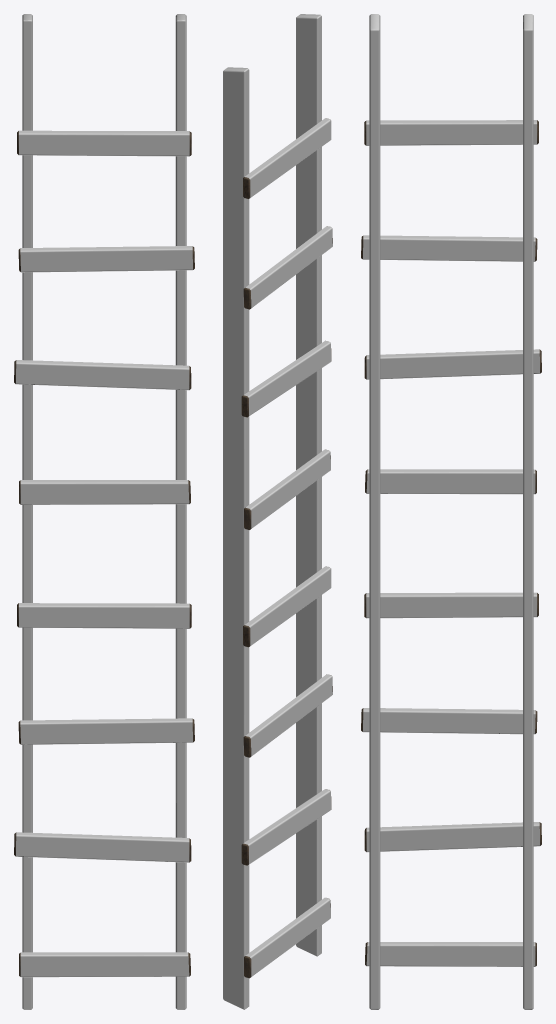
The model's file is SM_prop2_Ladder_3m.fbx.
3 renders of one model, left to right at view 1: azimuth 90°, elevation 25°; view 2: azimuth 150°, elevation 25°; view 3: azimuth 270°, elevation 25°, orthographic. The views are drawn at different scales.
Visible parts, largest first — view 1: SM_prop2_Ladder_3m_LOD0; view 2: SM_prop2_Ladder_3m_LOD0; view 3: SM_prop2_Ladder_3m_LOD0.
Part boxes in pixels (x1,y1,x2,y2): SM_prop2_Ladder_3m_LOD0: (14, 14, 194, 1009); SM_prop2_Ladder_3m_LOD0: (223, 14, 332, 1009); SM_prop2_Ladder_3m_LOD0: (361, 14, 541, 1009).
Bounding box in the file's own units: 9.96 × 49.8 × 301.
